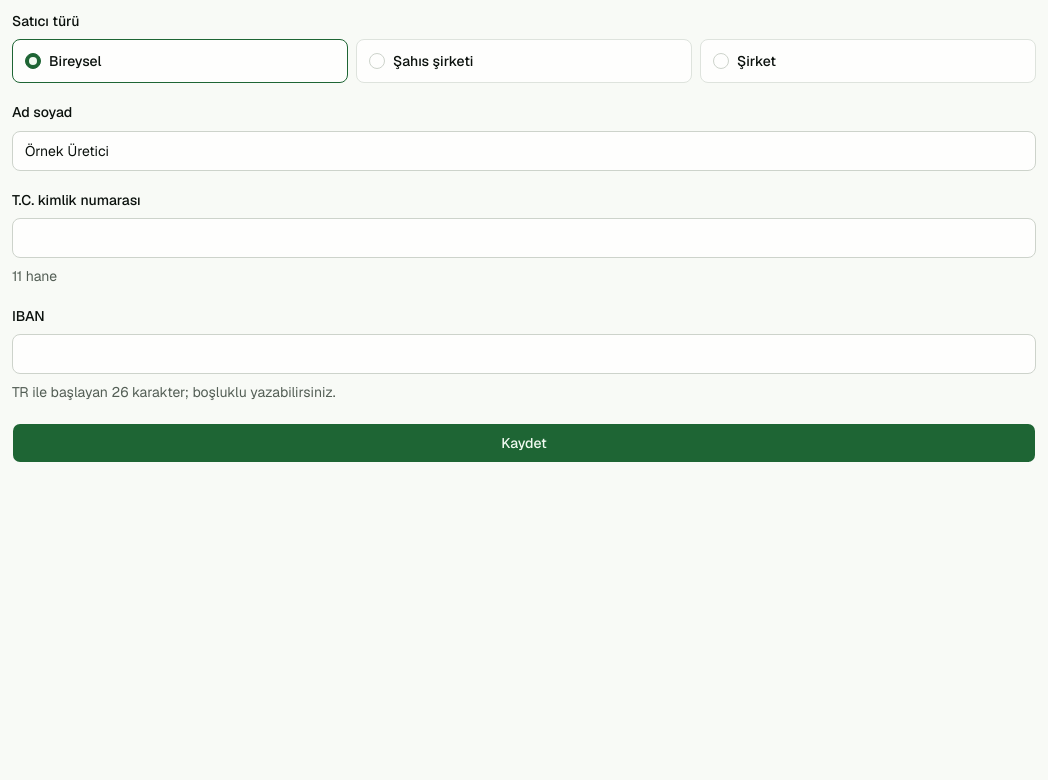
Test: PayoutForm › sunucunun alan hatasını ilgili alana bağlar
This screenshot has width=1048, height=780.
Expected: the field labelled "Ad soyad" holds "Örnek Üretici", [12, 130, 1036, 170]
In the field labelled "T.C. kimlik numarası": (524, 238) [12, 218, 1036, 258], type "10000000078"
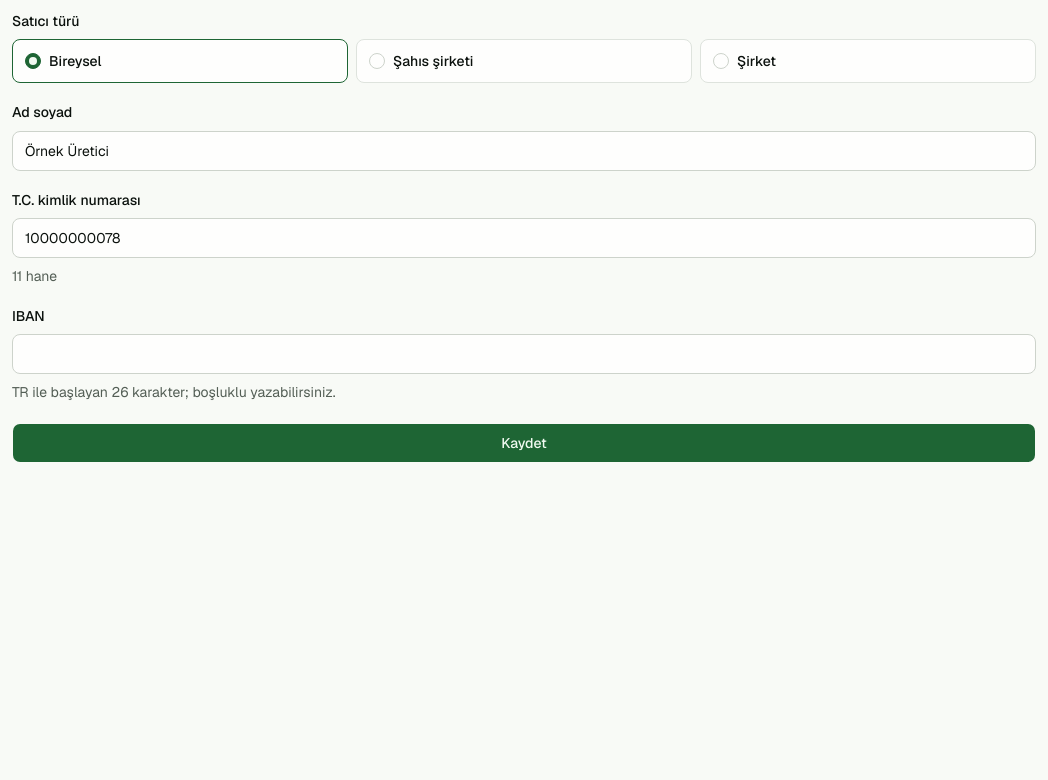
In the field labelled "IBAN": (524, 354) [12, 334, 1036, 374], type "TR00"
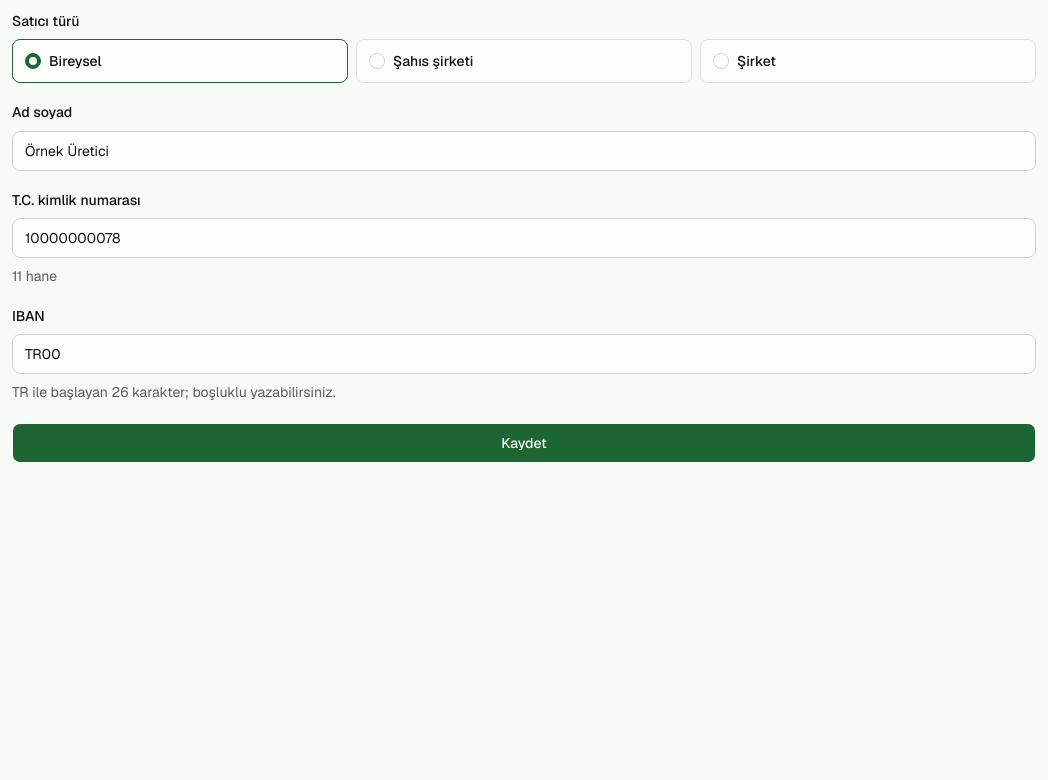
Click the button "Kaydet": (524, 443) [12, 423, 1036, 463]
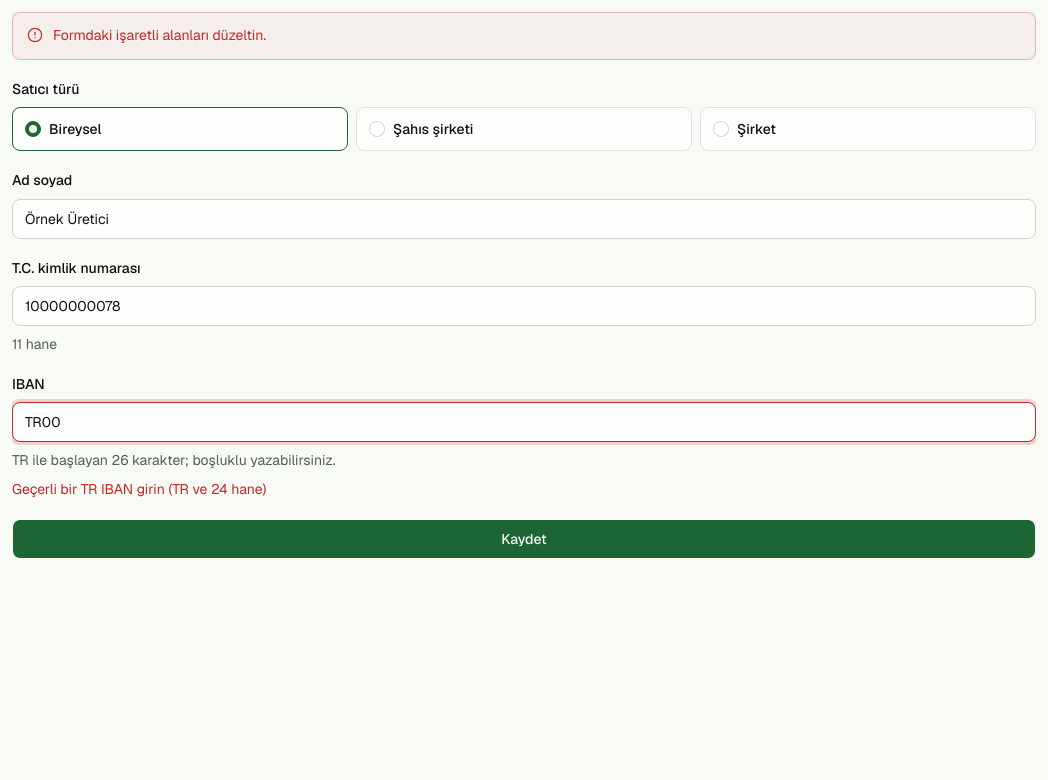
Expected: the text "Geçerli bir TR IBAN girin (TR ve 24 hane)" is shown, [12, 480, 266, 498]
